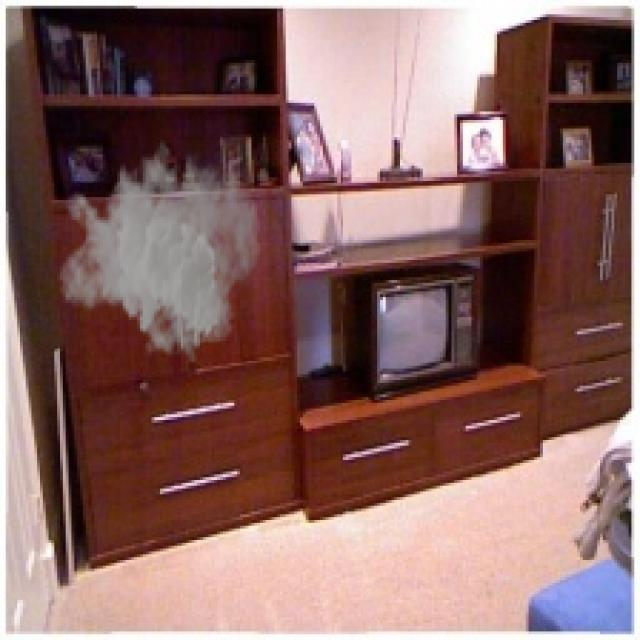smoke: (57, 131, 263, 366)
